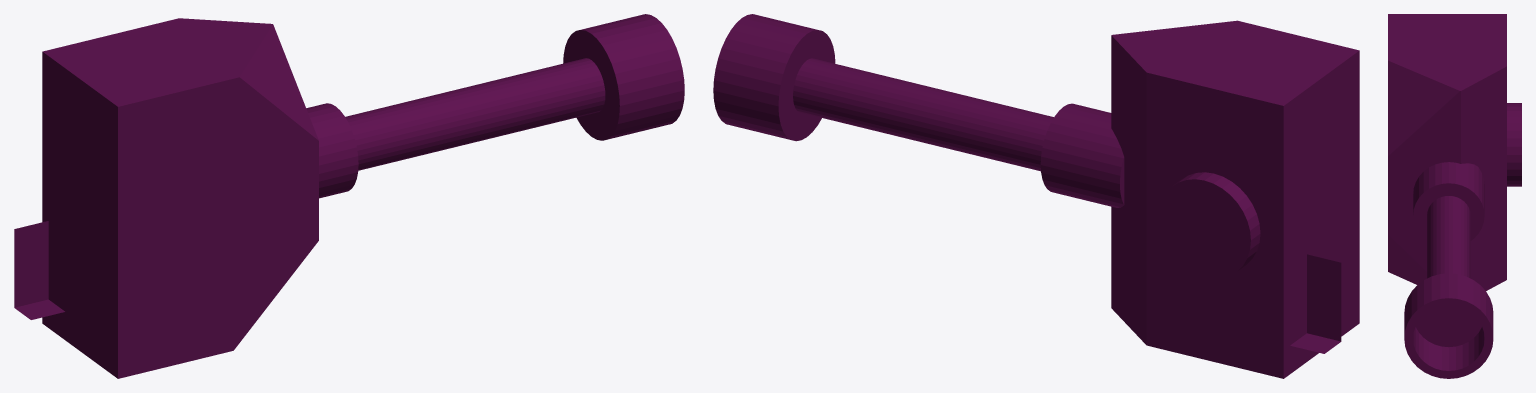
Rendered from Enemy01Head.fbx.
The picture shows the model from 3 angles, left to right: view 1: azimuth 30°, elevation 25°; view 2: azimuth 150°, elevation 25°; view 3: azimuth 270°, elevation 25°; orthographic projection. The views are drawn at different scales.
Parts seen in each view (by area): view 1: Head; view 2: Head; view 3: Head.
Part boxes in pixels (box(x1,y1,x2,y2)): Head: box(14, 14, 684, 378); Head: box(713, 14, 1359, 378); Head: box(1388, 14, 1521, 378).
Size of the model in its own units: 212 by 90.14 by 51.11.
Materials: 1 (1 with a texture image).
